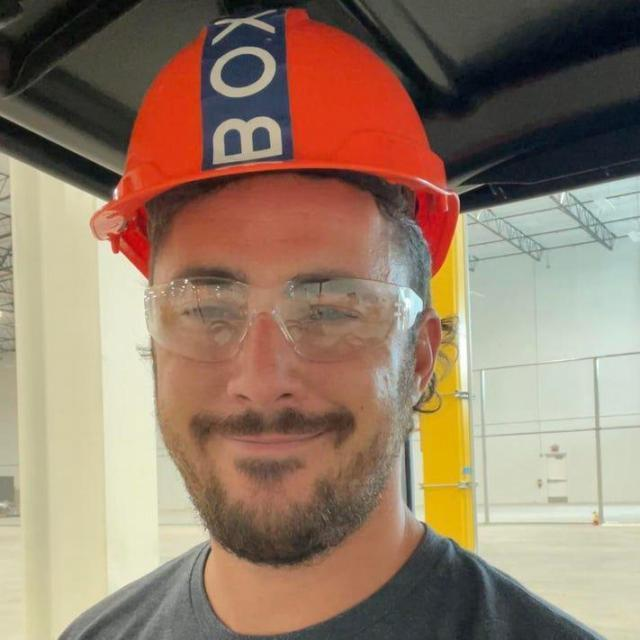hat: (88, 9, 460, 278)
